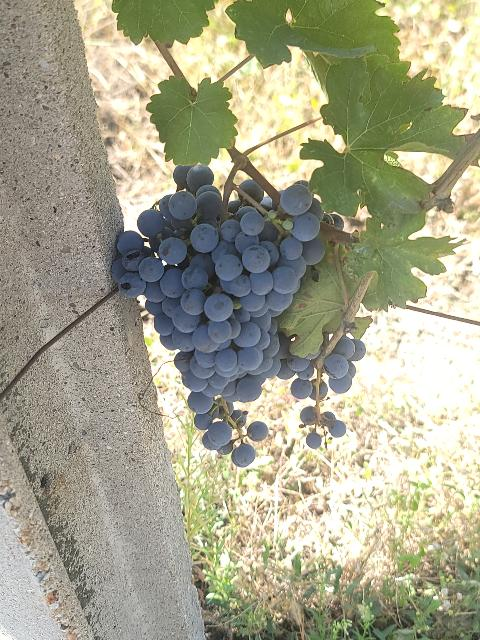grapes: (111, 165, 306, 466), (288, 335, 366, 449)
